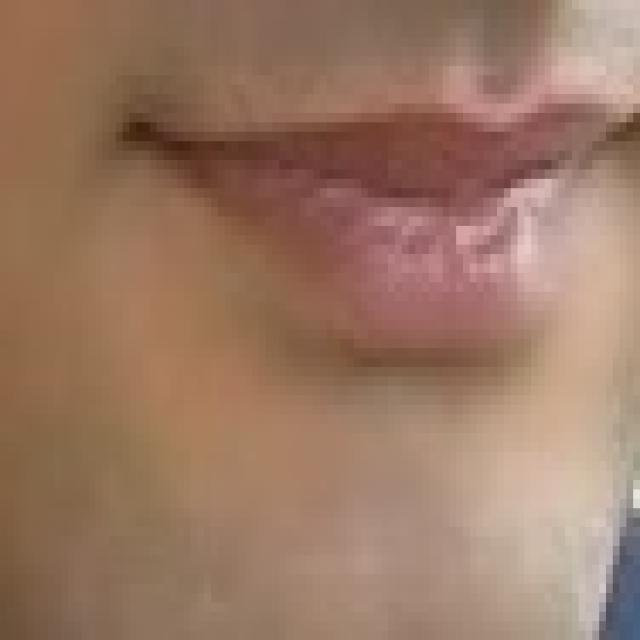closed-mouth: (109, 47, 634, 358)
